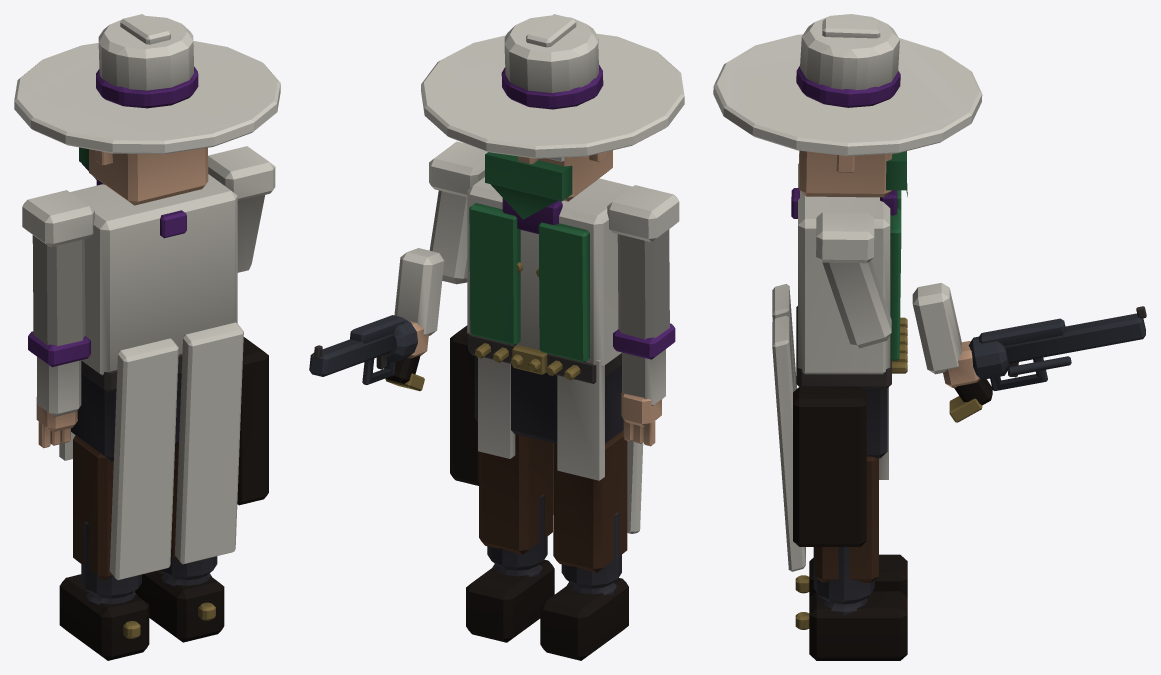
The model's file is cowboy_ghost.glb.
3 views of the same model, side by side, from view 1: azimuth 30°, elevation 25°; view 2: azimuth 150°, elevation 25°; view 3: azimuth 270°, elevation 25° (orthographic).
Parts seen in each view (by area): view 1: O_Torso, O_Hat, O_CoatTail_L, O_CoatTail_R, O_Sleeve_L, O_Pelvis, O_Leg_L, O_Shin_L, O_Head, O_Shin_R, O_Sleeve_R, O_Leg_R (+1 smaller); view 2: O_Torso, O_Hat, O_Pelvis, O_Leg_L, O_Sleeve_L, O_Leg_R, O_Shin_L, O_Head, O_Shin_R, O_Frame, O_Fore_R, O_Sleeve_R (+2 smaller); view 3: O_Hat, O_Pelvis, O_Torso, O_Frame, O_Shin_R, O_Leg_R, O_Head, O_Fore_R, O_Sleeve_R, O_CoatTail_R, O_Shin_L, O_CoatTail_L.
Part boxes in pixels (x1,y1,x2,y2): O_Torso: [22, 146, 275, 460]; O_Hat: [14, 14, 280, 154]; O_CoatTail_L: [109, 338, 178, 580]; O_CoatTail_R: [174, 322, 243, 564]; O_Sleeve_L: [32, 235, 85, 448]; O_Pelvis: [71, 337, 268, 505]; O_Leg_L: [73, 435, 141, 598]; O_Shin_L: [59, 574, 149, 660]; O_Head: [79, 147, 208, 205]; O_Shin_R: [135, 570, 224, 642]; O_Sleeve_R: [237, 195, 264, 272]; O_Leg_R: [160, 445, 217, 580]; O_Torso: [429, 141, 679, 480]; O_Hat: [421, 14, 684, 158]; O_Pelvis: [450, 325, 623, 485]; O_Leg_L: [553, 430, 627, 588]; O_Sleeve_L: [617, 229, 669, 446]; O_Leg_R: [479, 434, 552, 570]; O_Shin_L: [540, 578, 628, 660]; O_Head: [485, 150, 612, 219]; O_Shin_R: [466, 559, 554, 642]; O_Frame: [309, 315, 424, 391]; O_Fore_R: [394, 248, 444, 358]; O_Sleeve_R: [429, 190, 467, 284]; O_Hat: [713, 14, 982, 155]; O_Pelvis: [793, 306, 907, 546]; O_Torso: [791, 163, 901, 479]; O_Frame: [949, 306, 1146, 422]; O_Shin_R: [795, 591, 907, 660]; O_Leg_R: [813, 456, 878, 604]; O_Head: [799, 150, 907, 197]; O_Fore_R: [912, 283, 980, 387]; O_Sleeve_R: [822, 260, 891, 348]; O_CoatTail_R: [772, 315, 805, 571]; O_Shin_L: [795, 554, 907, 597]; O_CoatTail_L: [772, 284, 796, 390].
Size of the model in its own units: 0.9292 by 2.33 by 1.5.
